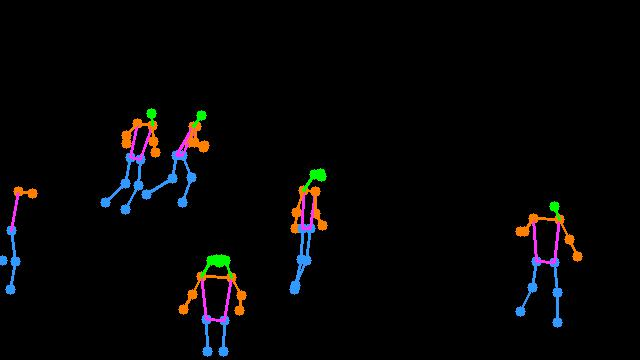normal: (502, 189, 589, 337), (263, 158, 346, 305), (88, 93, 166, 223), (172, 242, 249, 360)
